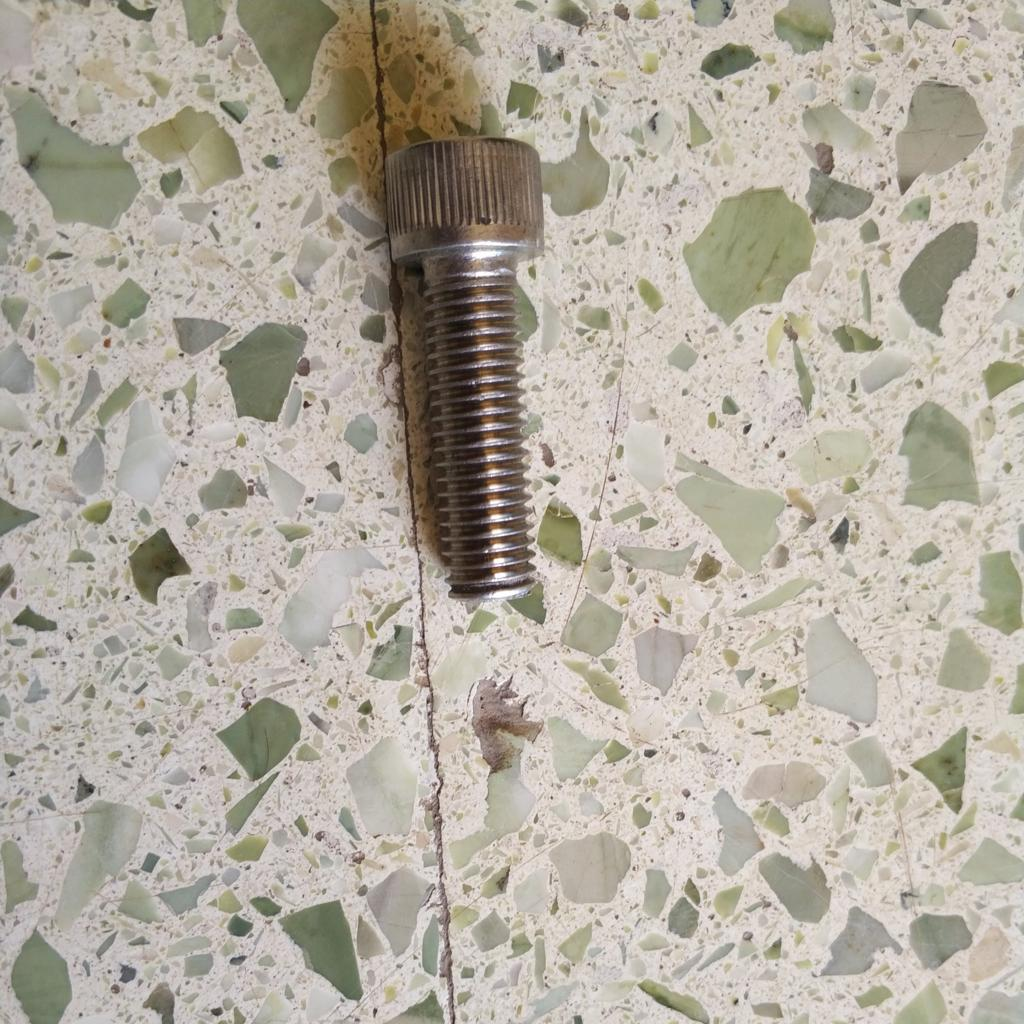screwtype1silver: (371, 133, 575, 607)
